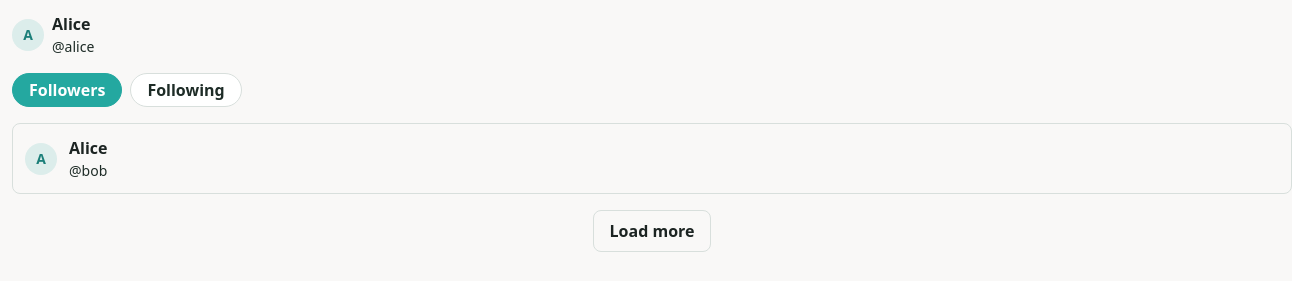
FollowListPage › appends the next page via load more
What coordinates should you click on to do the following:
click the button "Load more"
I would click on:
 (652, 231)
Its box is [592,210,711,252].
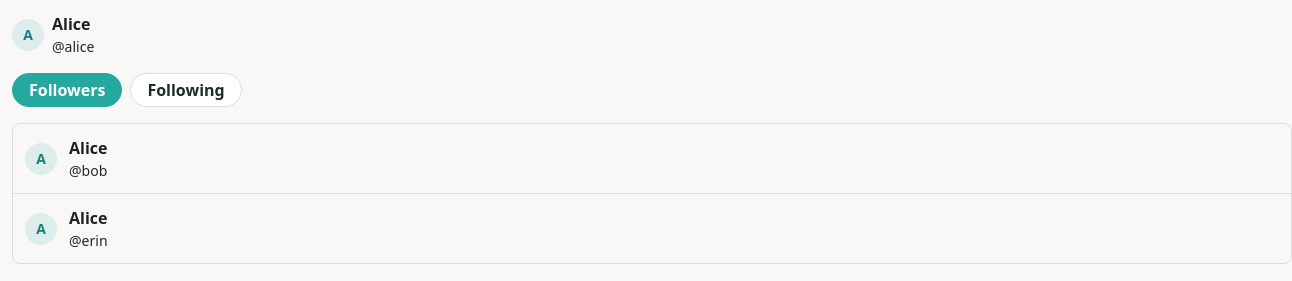
Check: the number of links with class "network__row" is 2, box [25,137,108,180]; [25,207,108,250]
